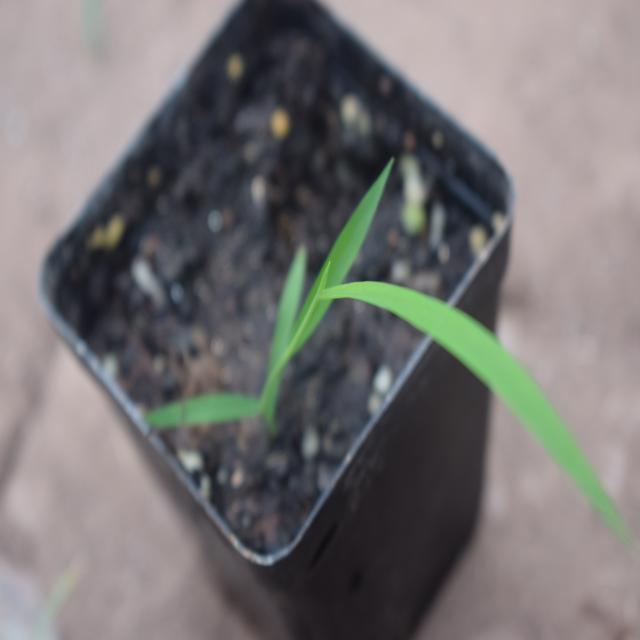crabgrass: (182, 180, 583, 509)
